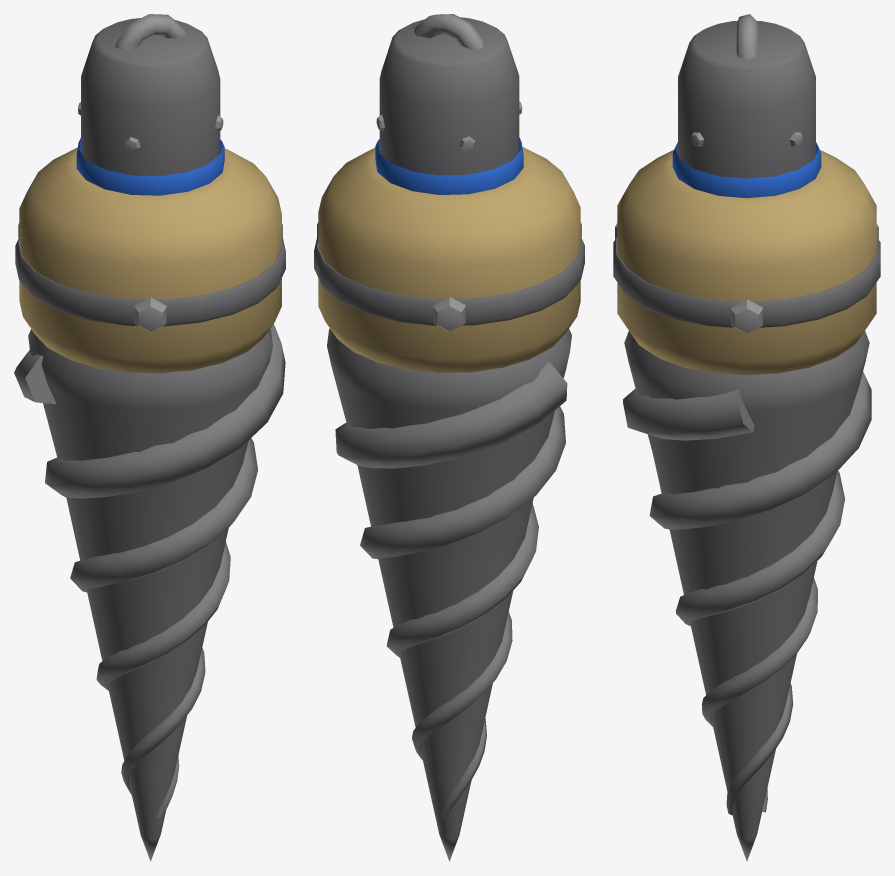
The model's file is Kit_Drill_Head.glb.
3 views of the same model, side by side, from view 1: azimuth 30°, elevation 25°; view 2: azimuth 150°, elevation 25°; view 3: azimuth 270°, elevation 25° (orthographic).
Parts seen in each view (by area): view 1: Kit_Drill_Head; view 2: Kit_Drill_Head; view 3: Kit_Drill_Head.
Part boxes in pixels (x1,y1,x2,y2): Kit_Drill_Head: [14, 14, 285, 861]; Kit_Drill_Head: [314, 14, 584, 861]; Kit_Drill_Head: [613, 14, 880, 861].
Size of the model in its own units: 0.1413 by 0.4553 by 0.1307.
